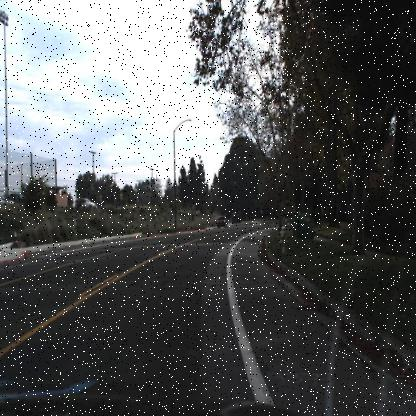car: (214, 210, 230, 232), (74, 195, 96, 210), (215, 212, 229, 231)
